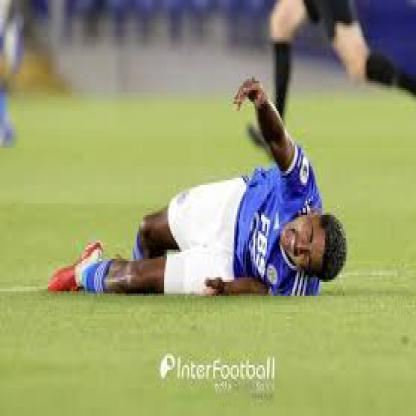Fall_Down: (44, 76, 349, 302)
